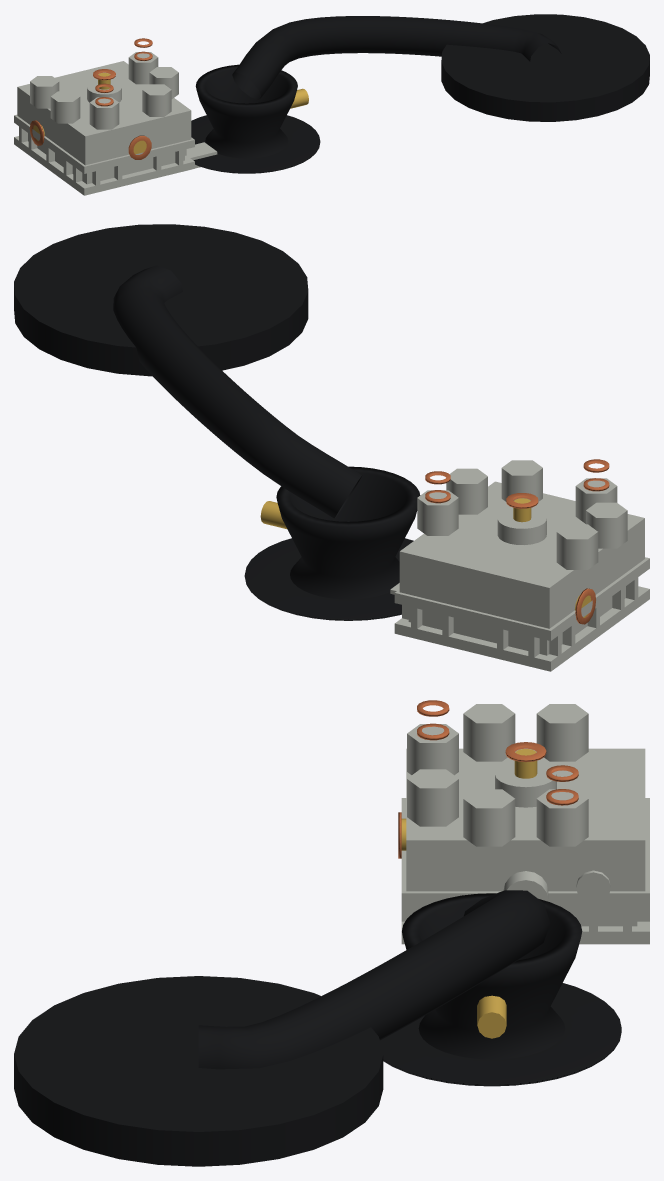
Rendered from mixture-control-unit.glb.
3 views of the same model, one above another, from view 1: azimuth 30°, elevation 25°; view 2: azimuth 150°, elevation 25°; view 3: azimuth 270°, elevation 25° (orthographic). The views are drawn at different scales.
Parts seen in each view (by area): view 1: mixture-control-unit:blackPaint, mixture-control-unit:zincPlate, mixture-control-unit:copper, mixture-control-unit:brass; view 2: mixture-control-unit:blackPaint, mixture-control-unit:zincPlate, mixture-control-unit:copper, mixture-control-unit:brass; view 3: mixture-control-unit:blackPaint, mixture-control-unit:zincPlate, mixture-control-unit:copper, mixture-control-unit:brass.
Part boxes in pixels (x1,y1,x2,y2): mixture-control-unit:blackPaint: (191,14,649,173); mixture-control-unit:zincPlate: (14,52,217,195); mixture-control-unit:copper: (29,38,152,159); mixture-control-unit:brass: (33,73,308,154); mixture-control-unit:blackPaint: (14,224,420,620); mixture-control-unit:zincPlate: (390,460,649,671); mixture-control-unit:copper: (425,459,609,624); mixture-control-unit:brass: (260,498,591,617); mixture-control-unit:blackPaint: (14,890,621,1166); mixture-control-unit:zincPlate: (401,704,649,944); mixture-control-unit:copper: (398,700,578,858); mixture-control-unit:brass: (401,749,537,1038).
Size of the model in its own units: 361 by 79.69 by 226.
